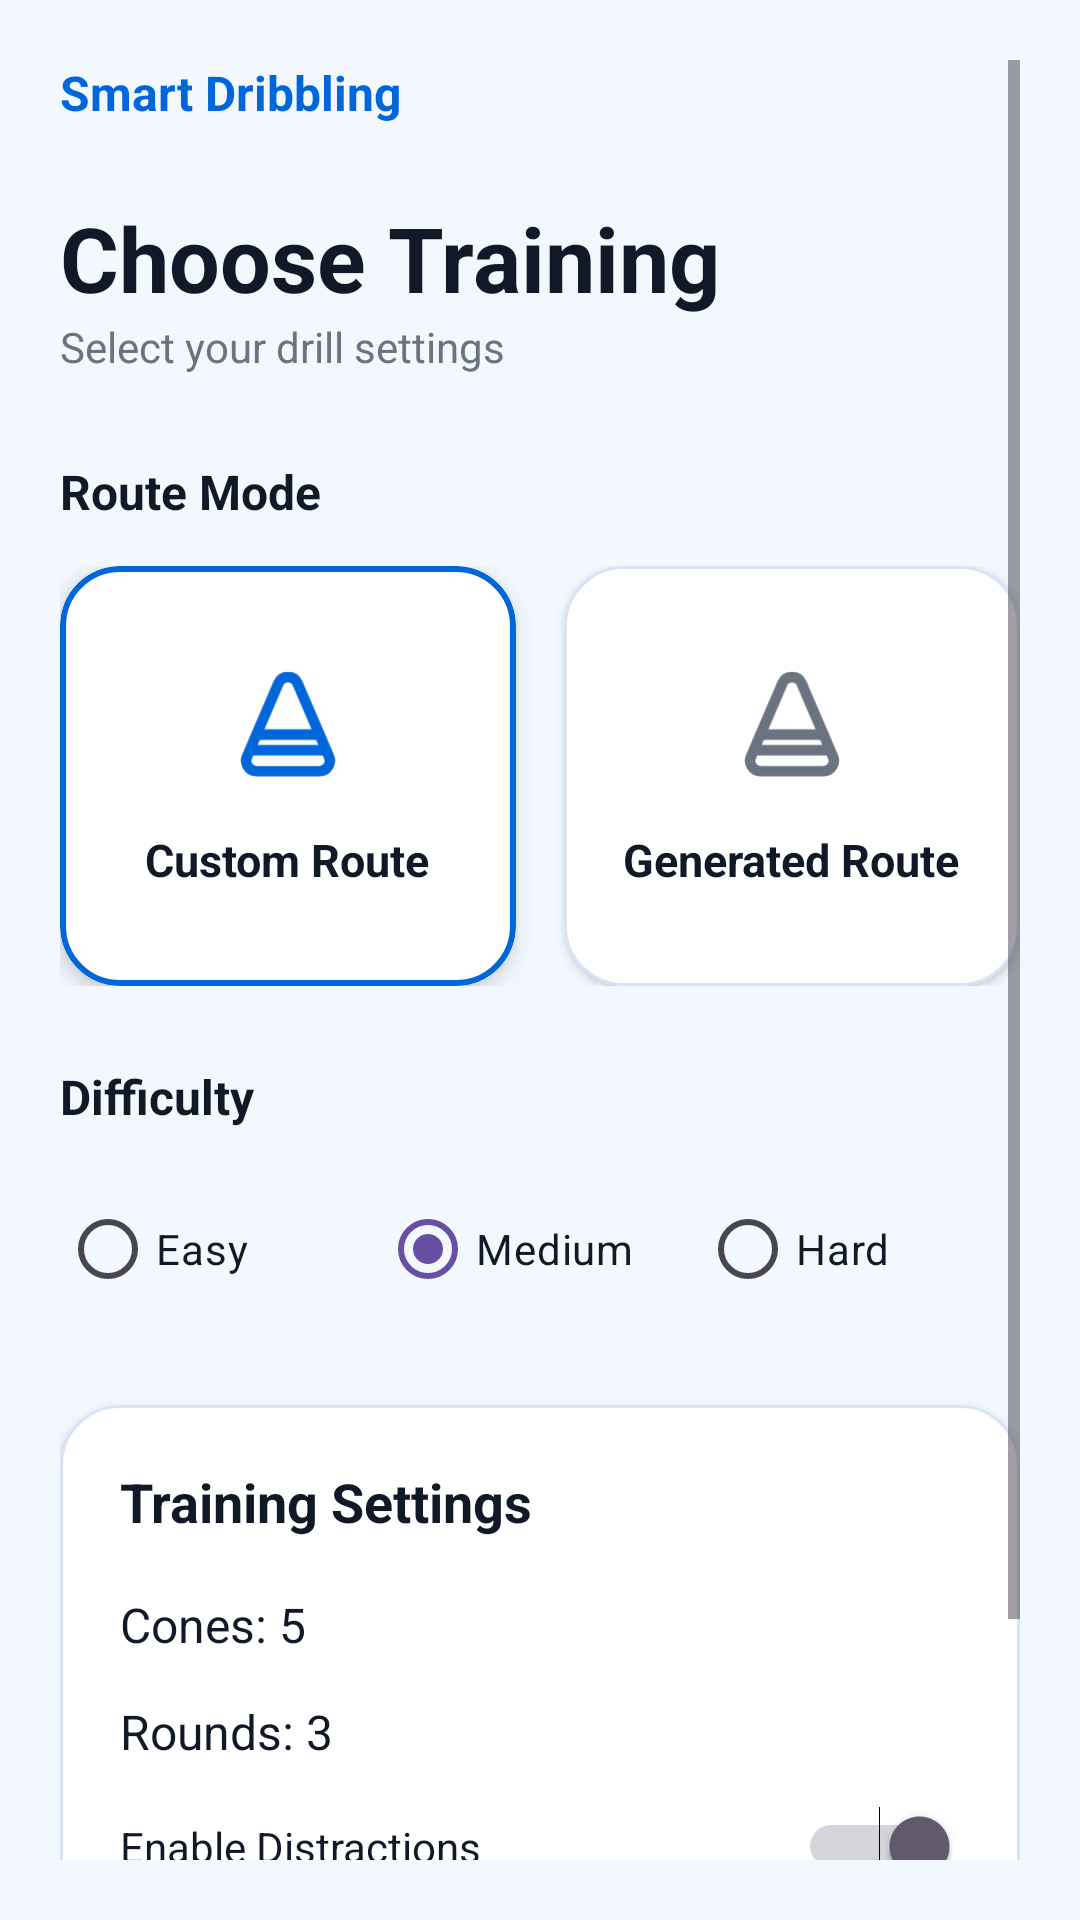

Icon bounding boxes for this 1080×1920 phone screenshot, format (x1, y1, x2, y2):
cones: (240, 671, 336, 777), (744, 671, 840, 777)
